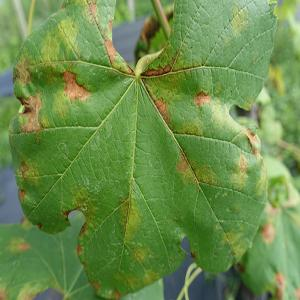Folha: (11, 0, 282, 300)
Fungo: (175, 144, 220, 194), (71, 179, 100, 226), (37, 30, 64, 75), (118, 191, 140, 246), (18, 90, 44, 133), (140, 48, 178, 77), (61, 69, 91, 103), (120, 266, 159, 292), (18, 158, 49, 190), (214, 90, 236, 134), (229, 3, 251, 42), (15, 49, 37, 85), (128, 238, 149, 274), (61, 15, 80, 54), (52, 90, 72, 122), (243, 126, 261, 158), (181, 116, 206, 138), (153, 97, 171, 125), (84, 273, 104, 298), (105, 34, 119, 68), (141, 62, 171, 76), (194, 89, 210, 107), (18, 160, 30, 178), (238, 154, 248, 173), (111, 286, 122, 300), (18, 188, 26, 202), (163, 63, 171, 73)
